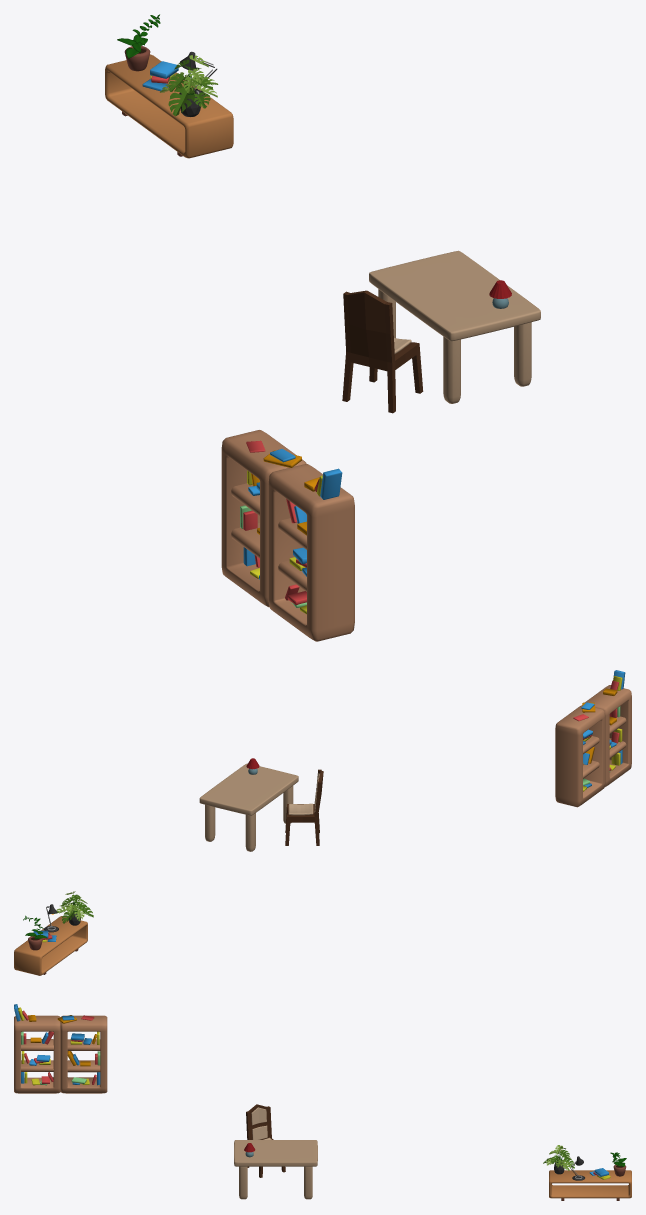
3 renders of one model, top to bottom at view 1: azimuth 30°, elevation 25°; view 2: azimuth 150°, elevation 25°; view 3: azimuth 270°, elevation 25°, orthographic. The views are drawn at different scales.
Parts seen in each view (by area): view 1: D-Room Deko Suburb I; view 2: D-Room Deko Suburb I; view 3: D-Room Deko Suburb I.
Part boxes in pixels (x1,y1,x2,y2): D-Room Deko Suburb I: (105, 14, 540, 641); D-Room Deko Suburb I: (14, 670, 631, 975); D-Room Deko Suburb I: (14, 1004, 631, 1200).
Size of the model in its own units: 5.07 by 1.9 by 11.77.
2 materials, 1 textured.
